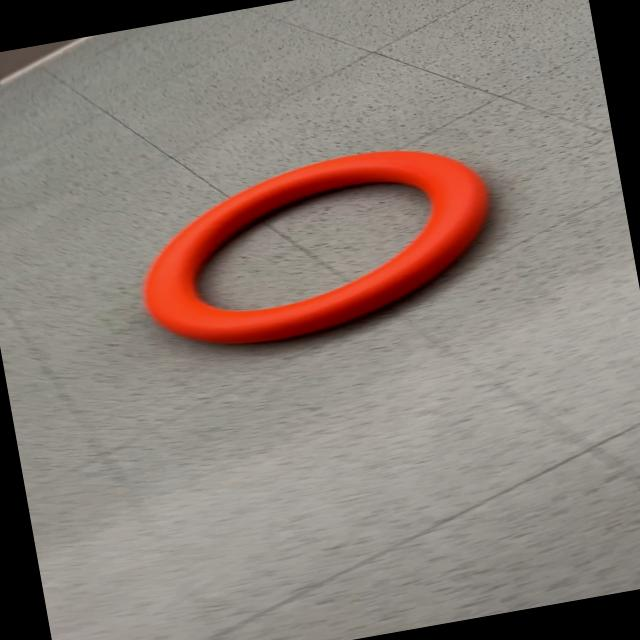note: (122, 130, 509, 363)
